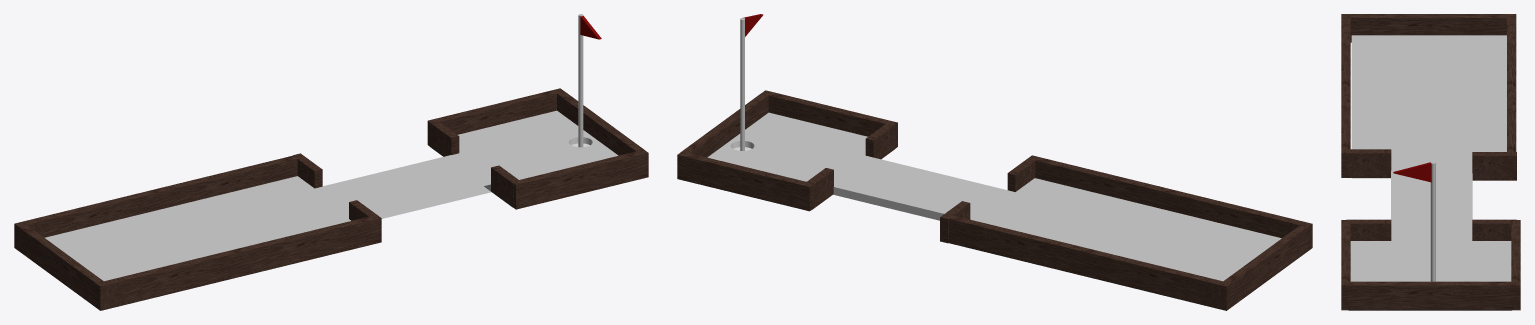
Rendered from Hole5.fbx.
3 renders of one model, left to right at view 1: azimuth 30°, elevation 25°; view 2: azimuth 150°, elevation 25°; view 3: azimuth 270°, elevation 25°, orthographic.
Visible parts, largest first — view 1: pCube89; view 2: pCube89; view 3: pCube89.
Boxes of the visible parts, bbox=[...] form: pCube89: bbox=[14, 14, 648, 310]; pCube89: bbox=[677, 14, 1312, 310]; pCube89: bbox=[1341, 14, 1520, 310].
Size of the model in its own units: 30.24 by 7.12 by 8.44.
